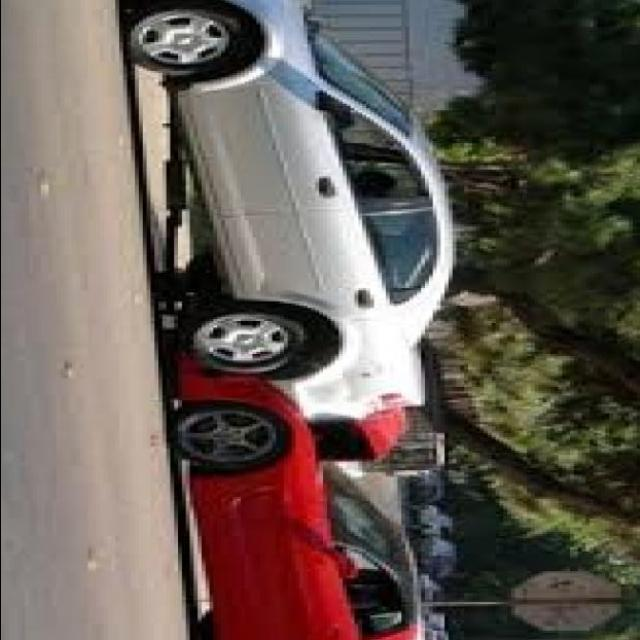accident: (154, 224, 482, 532)
